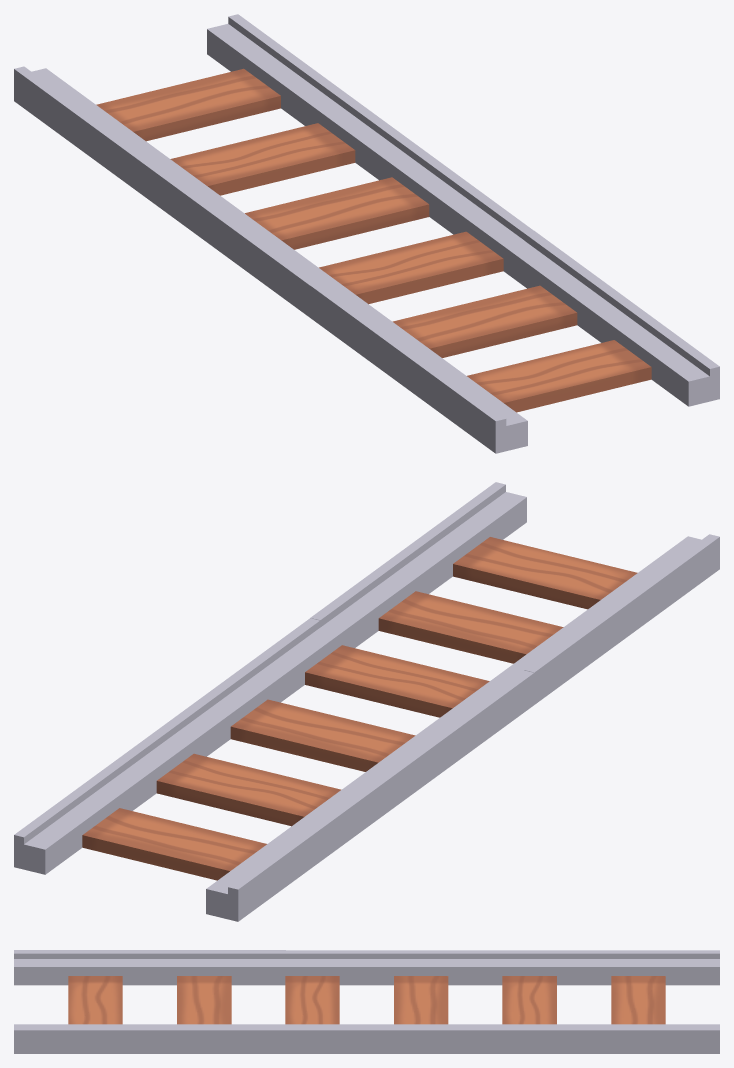
File: Rails_LongStraight.fbx
The picture shows the model from 3 angles, top to bottom: view 1: azimuth 30°, elevation 25°; view 2: azimuth 150°, elevation 25°; view 3: azimuth 270°, elevation 25°; orthographic projection. The views are drawn at different scales.
Visible parts, largest first — view 1: Cube.002; view 2: Cube.002; view 3: Cube.002.
Part boxes in pixels (x1,y1,x2,y2): Cube.002: (14,14,719,453); Cube.002: (14,482,719,921); Cube.002: (14,950,719,1053).
Bounding box in the file's own units: 175 × 24.26 × 652.
